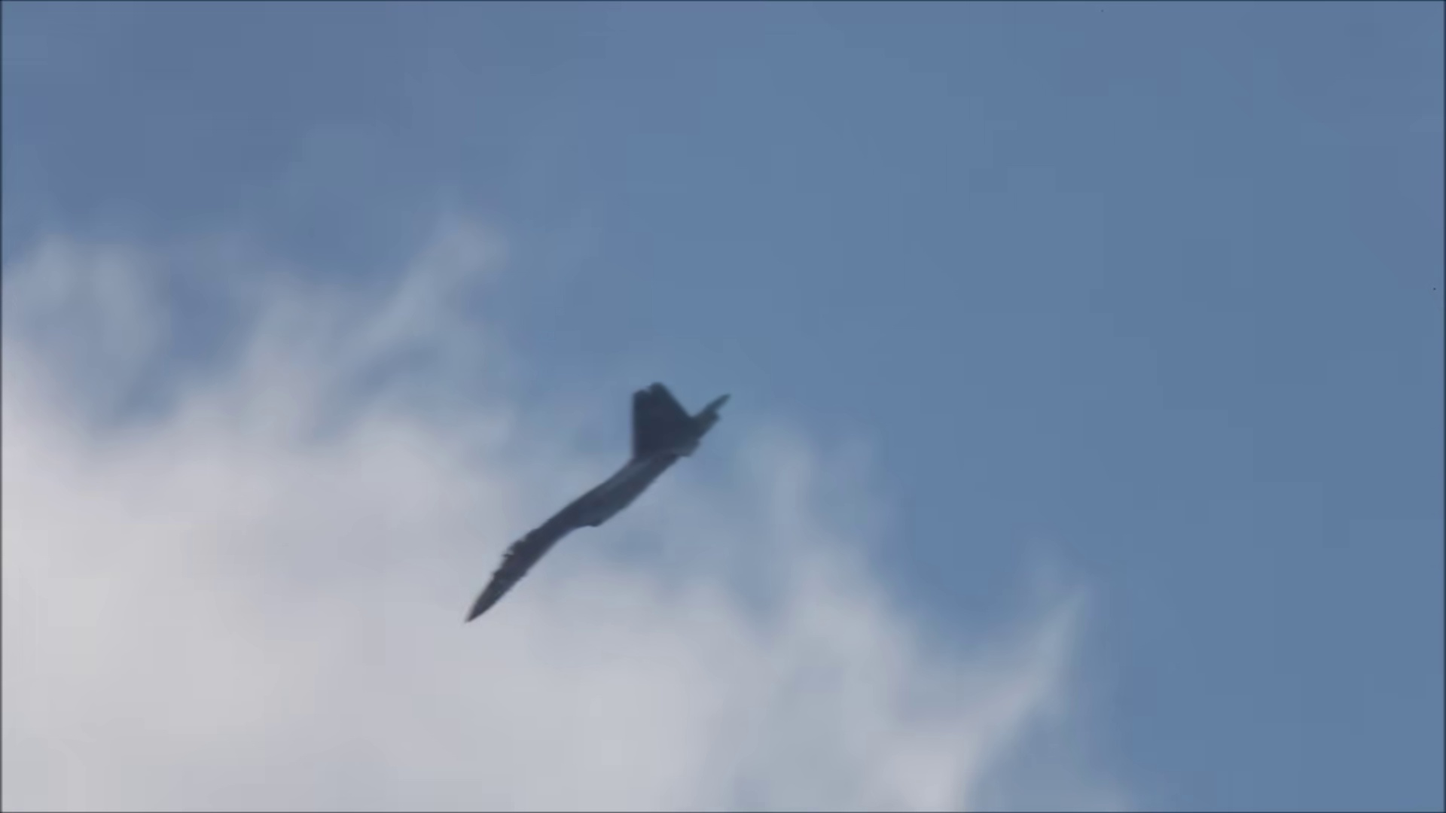Su35: (454, 373, 743, 630)
